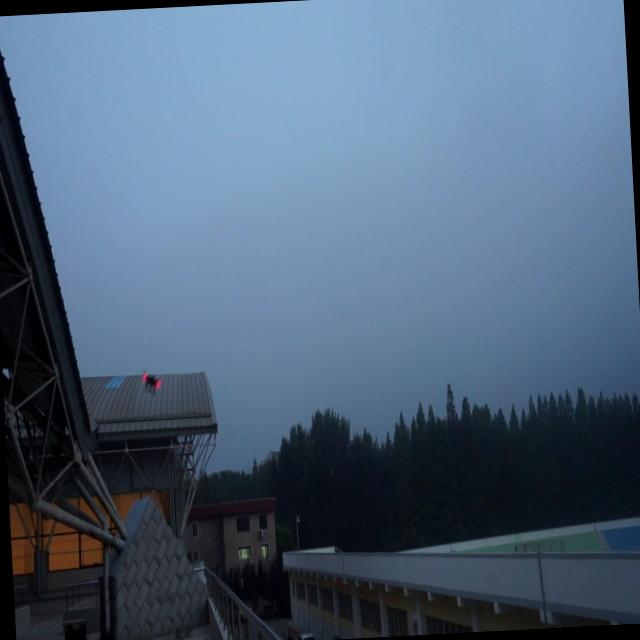drone: (141, 366, 163, 396)
